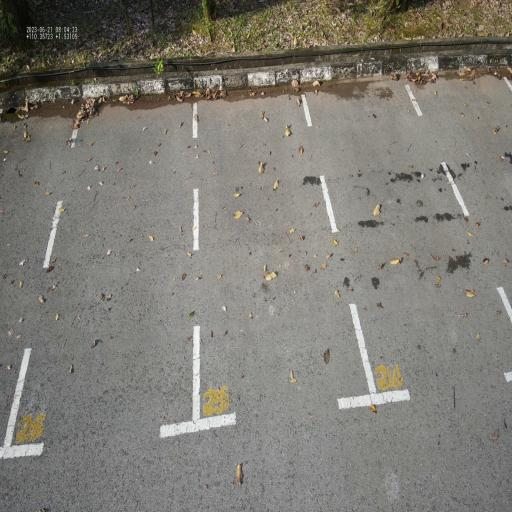Empty: (0, 85, 207, 466), (190, 82, 381, 434)
